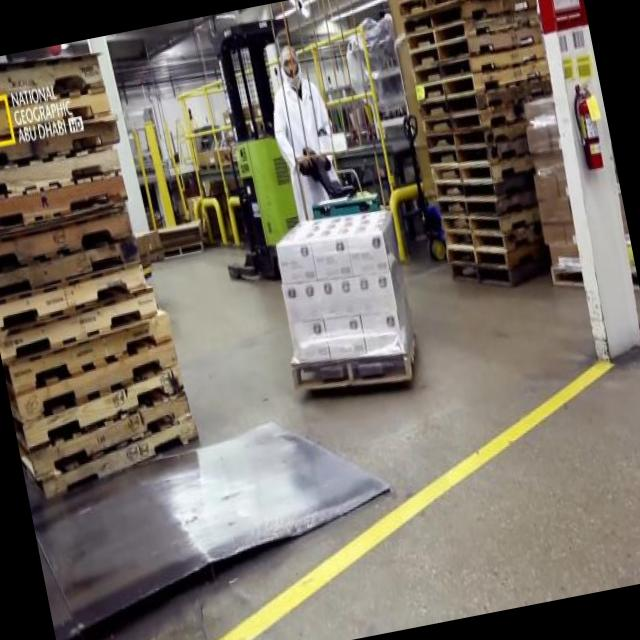hairnet: (278, 44, 300, 72)
